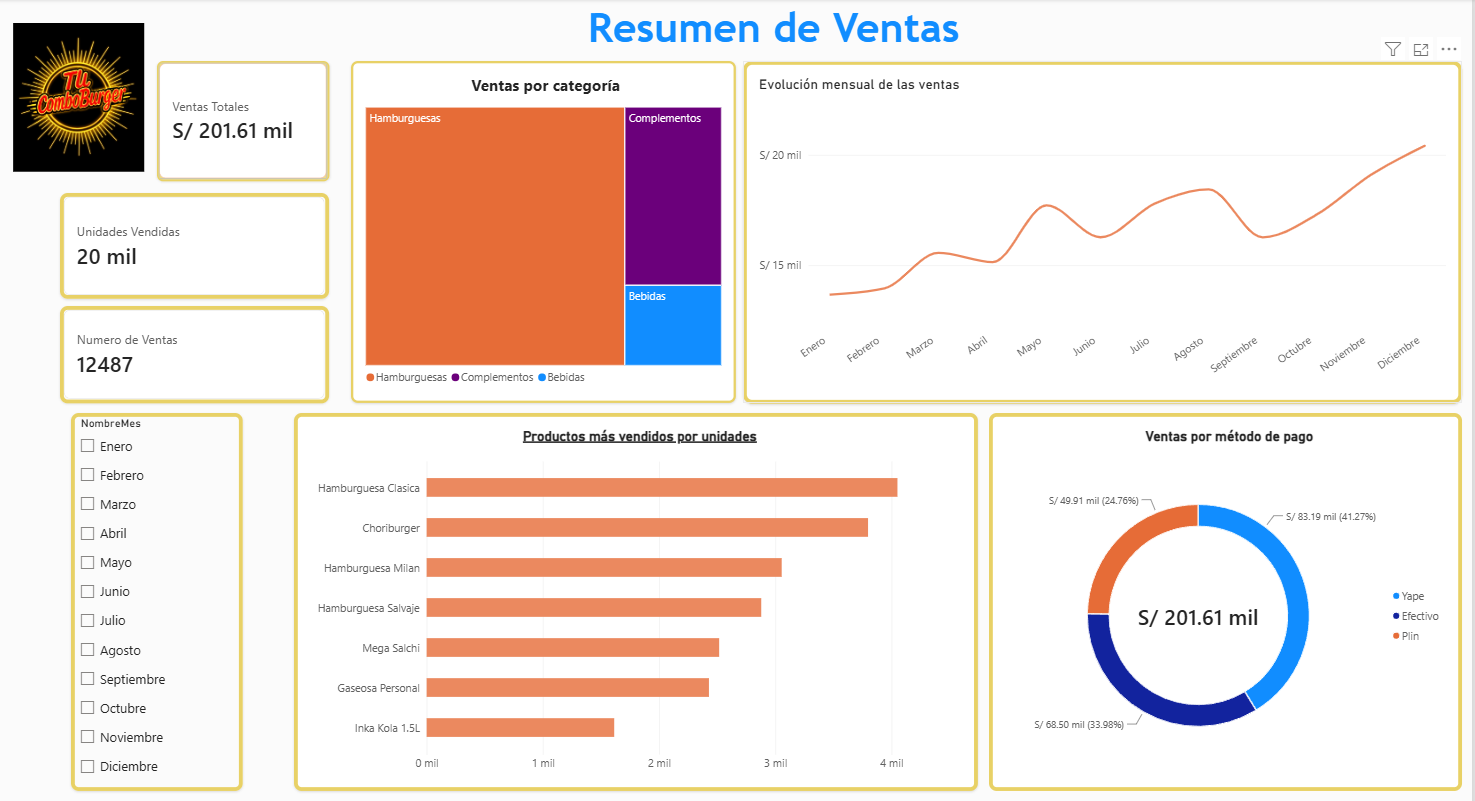

The page's visual inventory and layout, read from the dashboard file:
{"tool":"powerbi","page":{"name":"TU COMBO BURGER | DASHBOARD DE VENTAS","canvas":[1920,1080],"ordinal":0},"visuals":[{"type":"cardVisual","fields":{"Data":["FACT_VENTAS.Ventas Totales"]},"box":[204.8,80.9,224.7,156.5],"z":0},{"type":"slicer","fields":{"Values":["Dim_Tiempo.NombreMes"]},"box":[92.6,540,224.3,492.9],"z":1000},{"type":"cardVisual","fields":{"Data":["FACT_VENTAS.Unidades Vendidas"]},"box":[78.3,253,350.9,138.3],"z":2000},{"type":"clusteredBarChart","title":"Productos más vendidos por unidades","fields":{"Category":["Dim_Producto.nombreProducto"],"Y":["FACT_VENTAS.Unidades Vendidas"]},"box":[383.5,540,892.2,493],"z":3000},{"type":"lineChart","title":"Evolución mensual de las ventas","fields":{"Category":["Dim_Tiempo.NombreMes"],"Y":["FACT_VENTAS.Ventas Totales"]},"box":[969.1,80.9,938.3,446.7],"z":4000},{"type":"donutChart","title":"Ventas por método de pago","fields":{"Category":["Dim_MetodoPago.metodoPago"],"Y":["FACT_VENTAS.Ventas Totales"]},"box":[1290,540,617,493],"z":5000},{"type":"treemap","title":"Ventas por categoría","fields":{"Group":["Dim_Producto.categoria"],"Values":["FACT_VENTAS.Ventas Totales"]},"box":[457.8,80.9,502.2,446.1],"z":6000},{"type":"cardVisual","title":"Numero de Ventas","fields":{"Data":["FACT_VENTAS.Numero de Ventas"]},"box":[78.3,400.4,350.9,126.5],"z":6001},{"type":"image","box":[9.1,31.3,186.5,194.3],"z":6002},{"type":"textbox","box":[767,6.5,639.1,73],"z":6003}]}

Visuals, with their boxes on the page's 1920x1080 design canvas (x1, y1, x2, y2). These are canvas units, not pixel positions in the 1475x801 screenshot, which may show the page scaled, cropped or inside an application window:
cardVisual - FACT_VENTAS.Ventas Totales: crop(205, 81, 430, 237)
slicer - Dim_Tiempo.NombreMes: crop(93, 540, 317, 1033)
cardVisual - FACT_VENTAS.Unidades Vendidas: crop(78, 253, 429, 391)
"Productos más vendidos por unidades" clusteredBarChart: crop(384, 540, 1276, 1033)
"Evolución mensual de las ventas" lineChart: crop(969, 81, 1907, 528)
"Ventas por método de pago" donutChart: crop(1290, 540, 1907, 1033)
"Ventas por categoría" treemap: crop(458, 81, 960, 527)
"Numero de Ventas" cardVisual: crop(78, 400, 429, 527)
image: crop(9, 31, 196, 226)
textbox: crop(767, 6, 1406, 80)
